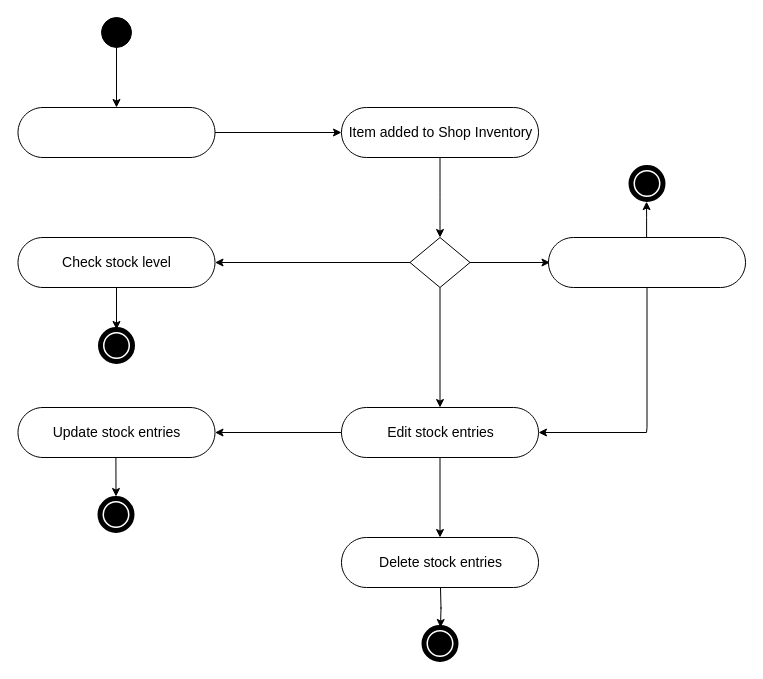
Some shapes in this 763 by 679 pixel diagram are drawn without their labels. The shapes that lost their labels are listed below. From the top down, each one's box as (x1, y1, x2, y2) in pixels, then its label:
(17, 106, 215, 158): Add item to inventory
(548, 236, 746, 288): Show Specific Item
